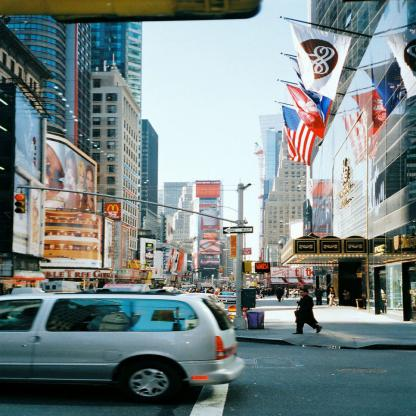Car: (1, 291, 247, 405), (103, 284, 168, 293), (190, 294, 225, 307), (219, 293, 239, 306), (184, 289, 190, 292)
